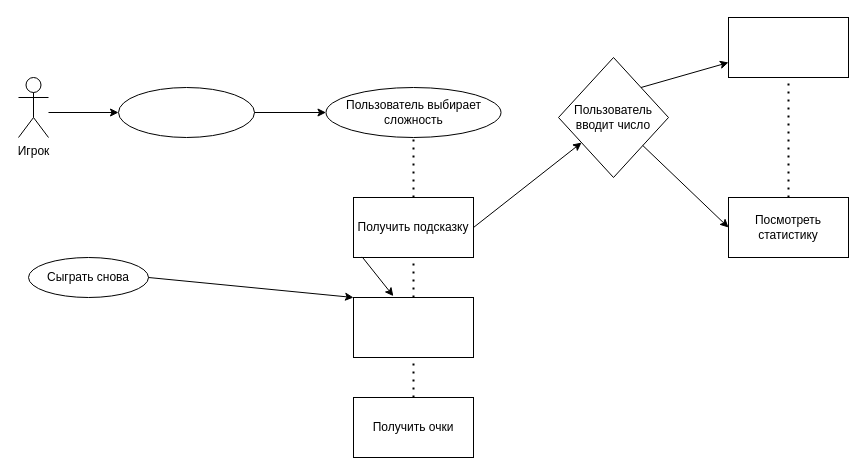
Image size: 866x475. Some labels were removed from this diagram. The box of each missing label's shape, as (x1, y1, x2, y2) in pixels:
Пользователь запускает игру: (118, 86, 254, 138)
Посмотреть очки: (728, 16, 848, 78)
Угадать число: (352, 296, 474, 358)
